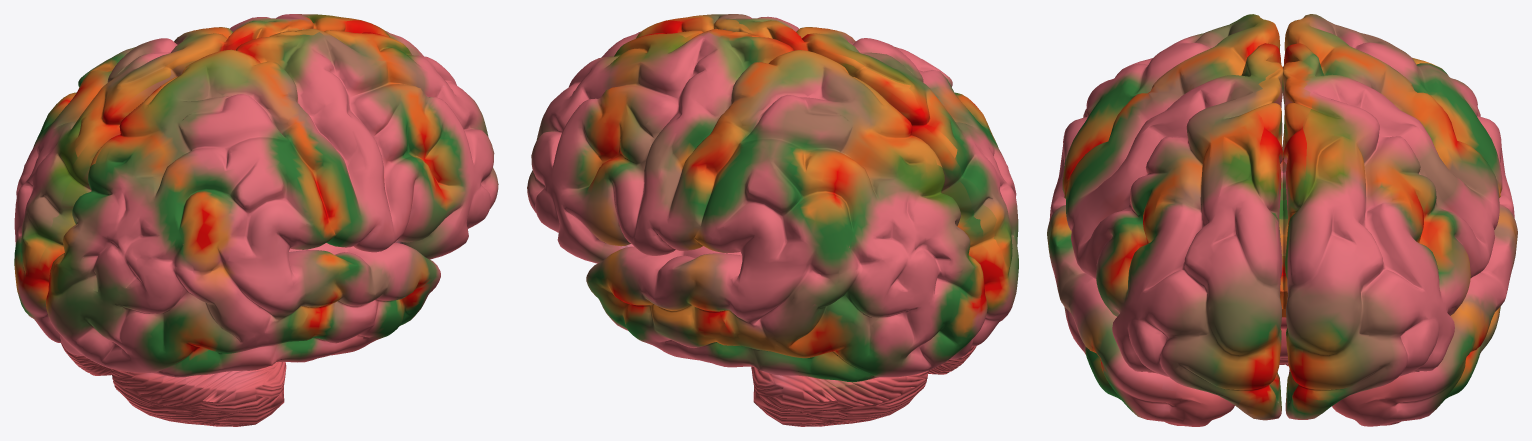
File: cerebro.glb
3 renders of one model, left to right at view 1: azimuth 30°, elevation 25°; view 2: azimuth 150°, elevation 25°; view 3: azimuth 270°, elevation 25°, orthographic. The views are drawn at different scales.
Parts seen in each view (by area): view 1: Brain_Part_06; view 2: Brain_Part_06; view 3: Brain_Part_06.
Boxes of the visible parts, x1=… form: Brain_Part_06: x1=14, y1=14, x2=498, y2=426; Brain_Part_06: x1=527, y1=14, x2=1018, y2=426; Brain_Part_06: x1=1047, y1=14, x2=1517, y2=426.
Size of the model in its own units: 4.73 by 3.51 by 3.8.
